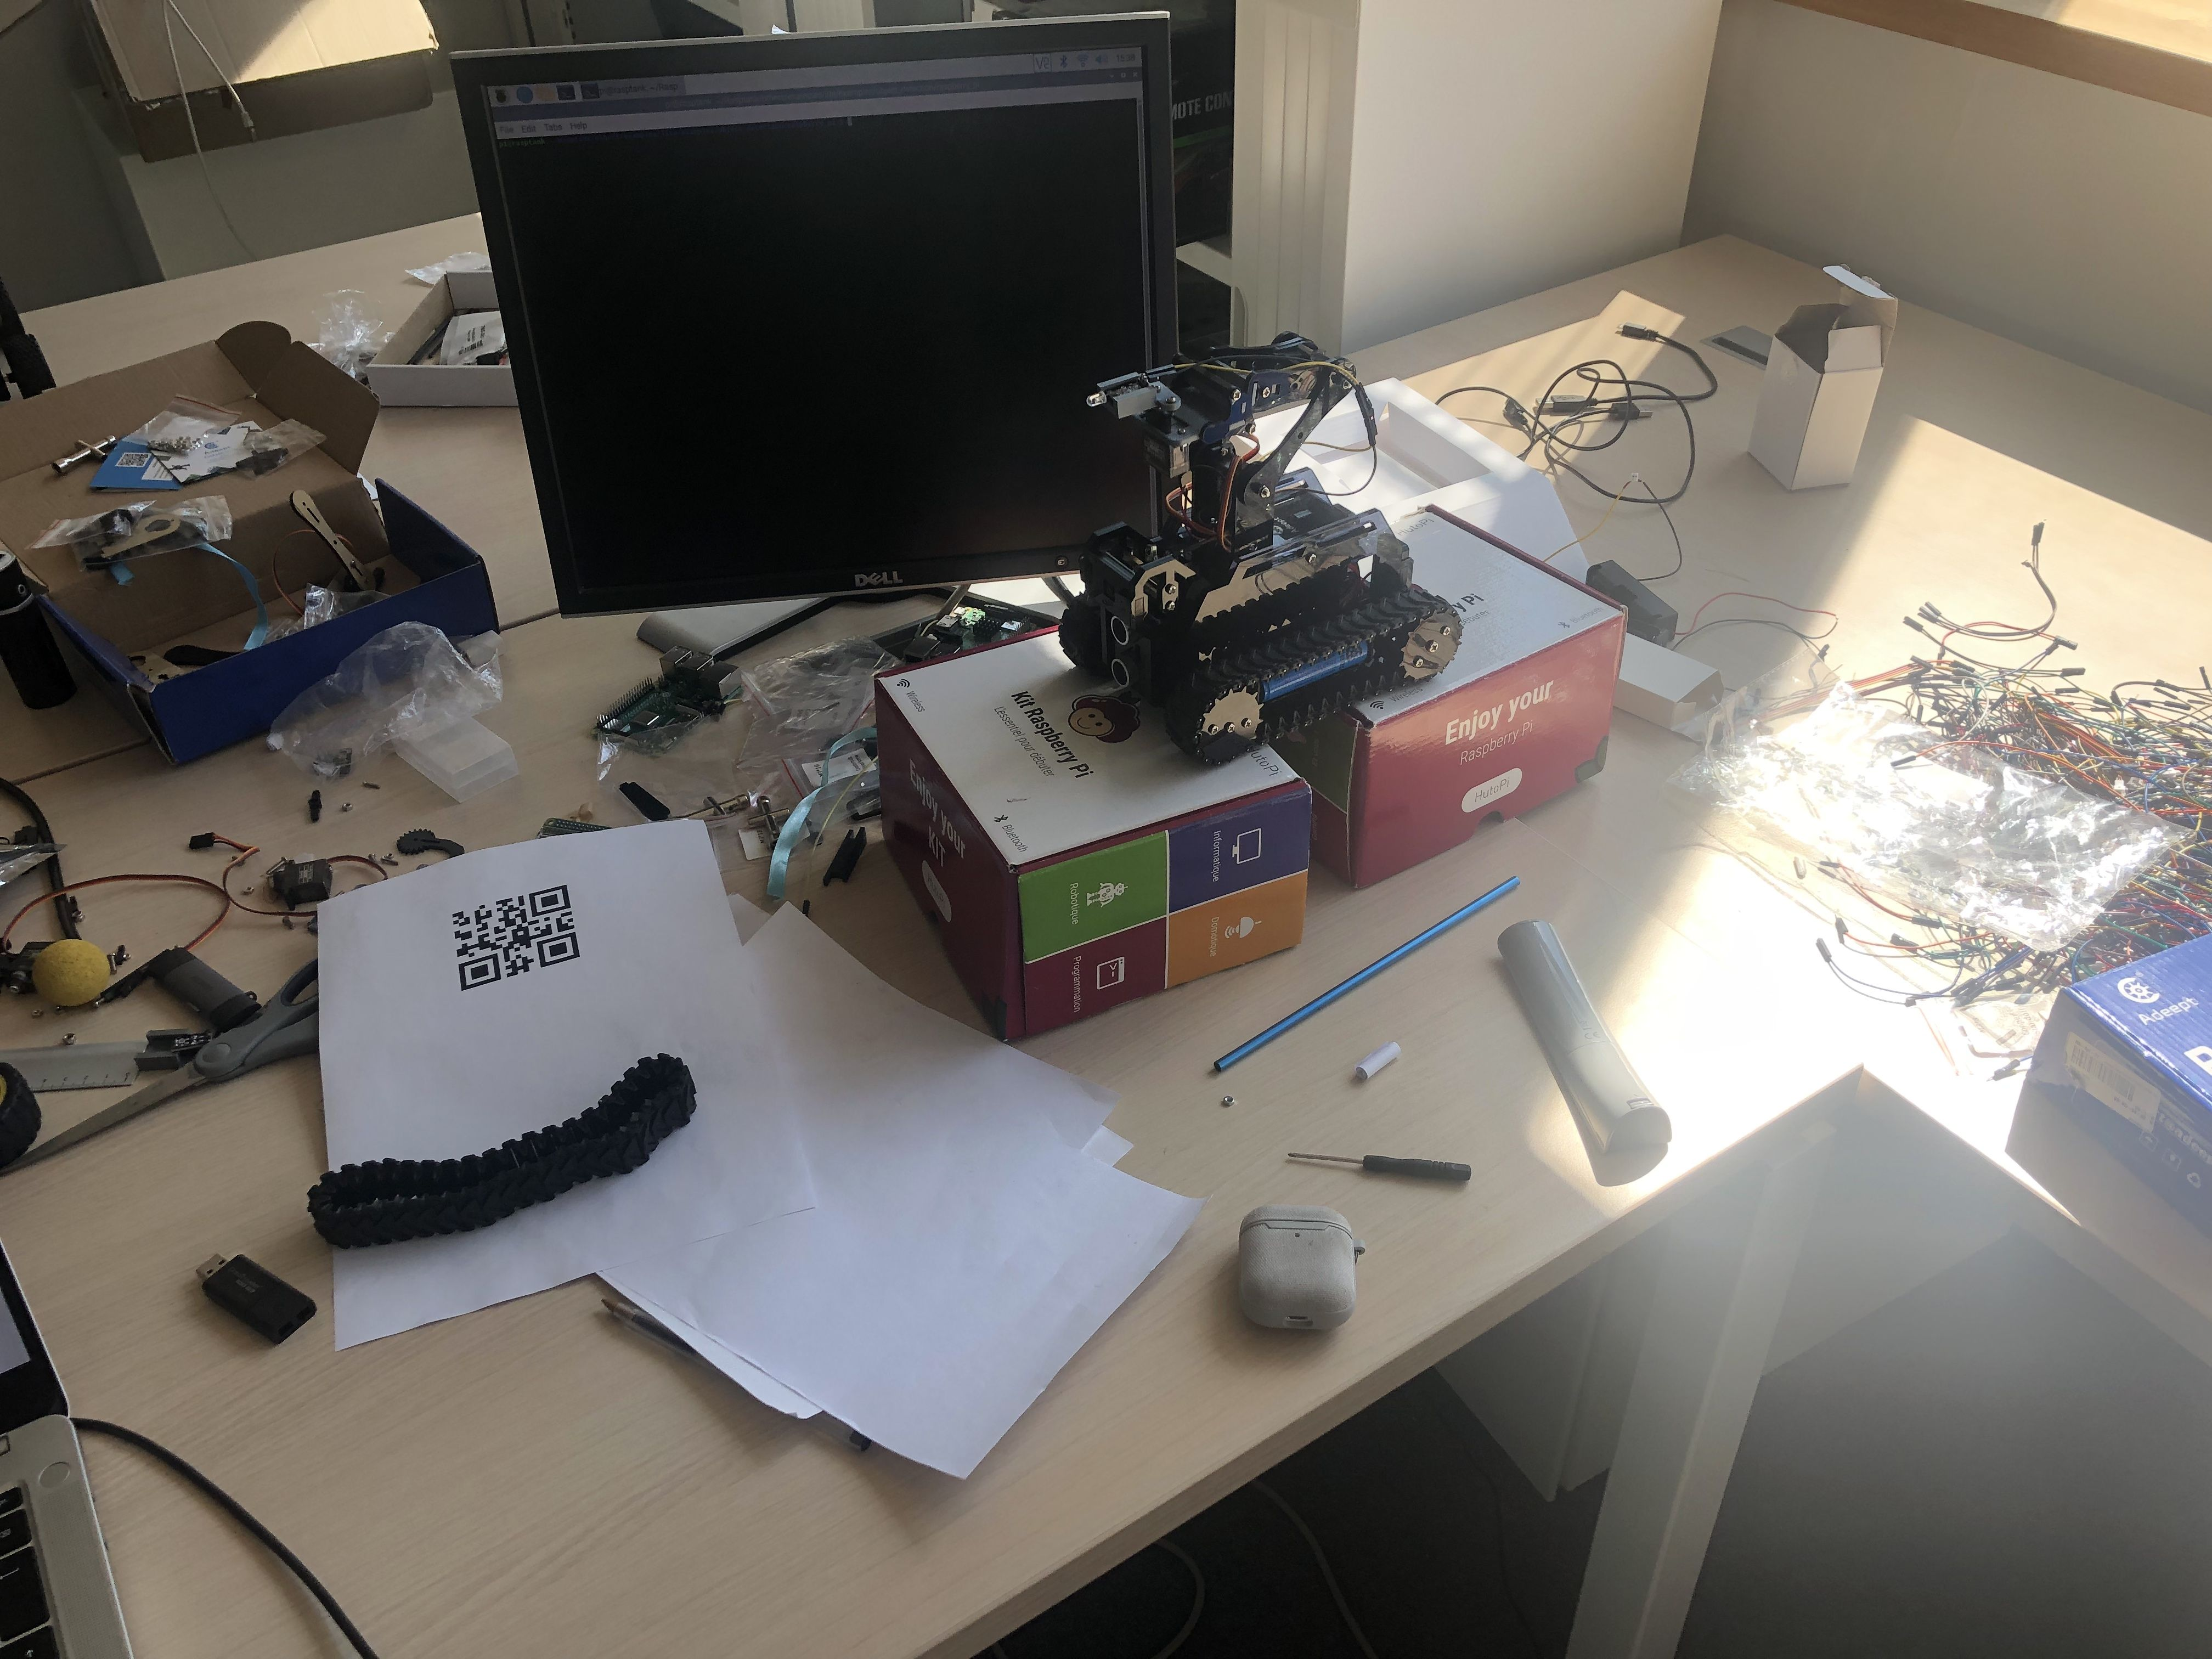rasptank: (1073, 328, 1463, 770)
